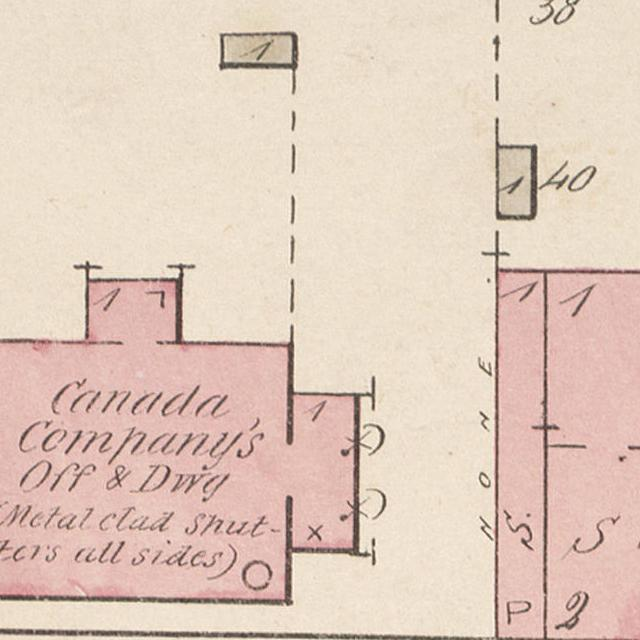building-footprints: (0, 279, 357, 602), (545, 271, 640, 640), (497, 271, 545, 640), (497, 147, 534, 218), (222, 34, 295, 67)
